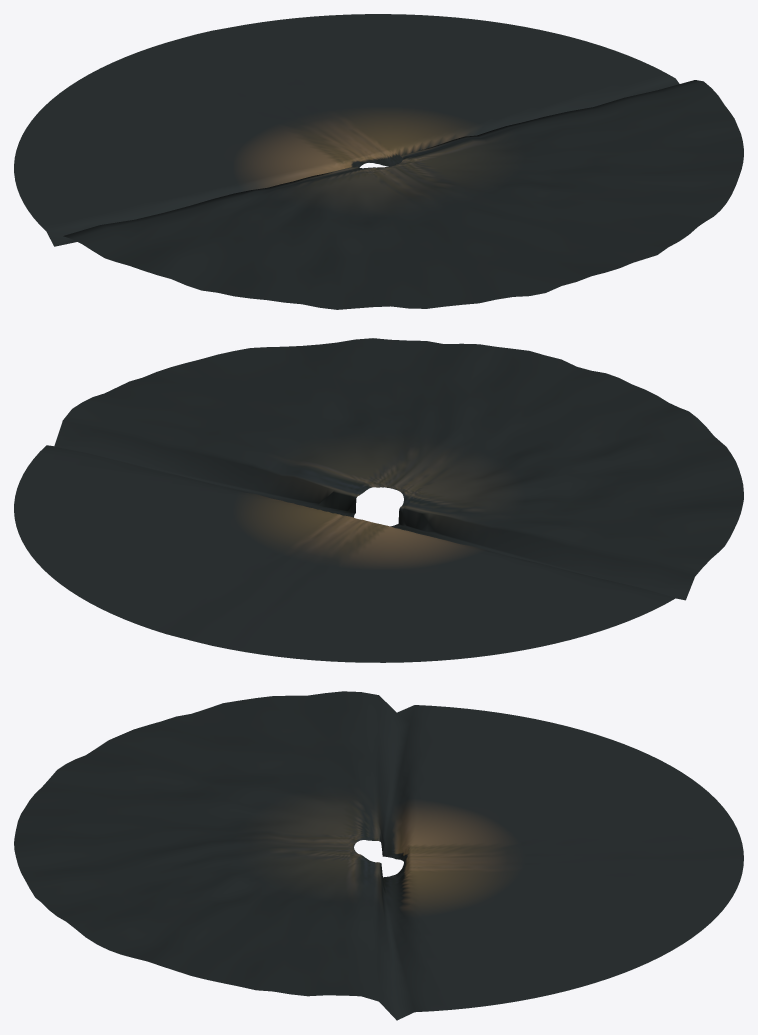
The model's file is termessos-tiyatrosu-skirt.glb.
3 renders of one model, top to bottom at view 1: azimuth 30°, elevation 25°; view 2: azimuth 150°, elevation 25°; view 3: azimuth 270°, elevation 25°, orthographic.
Visible parts, largest first — view 1: termessos-tiyatrosu-skirt; view 2: termessos-tiyatrosu-skirt; view 3: termessos-tiyatrosu-skirt.
Part boxes in pixels (left/top/right/bottom): termessos-tiyatrosu-skirt: left=14, top=14, right=743, bottom=309; termessos-tiyatrosu-skirt: left=14, top=338, right=743, bottom=662; termessos-tiyatrosu-skirt: left=14, top=691, right=743, bottom=1020.
Bounding box in the file's own units: 8400 × 341 × 8400.
